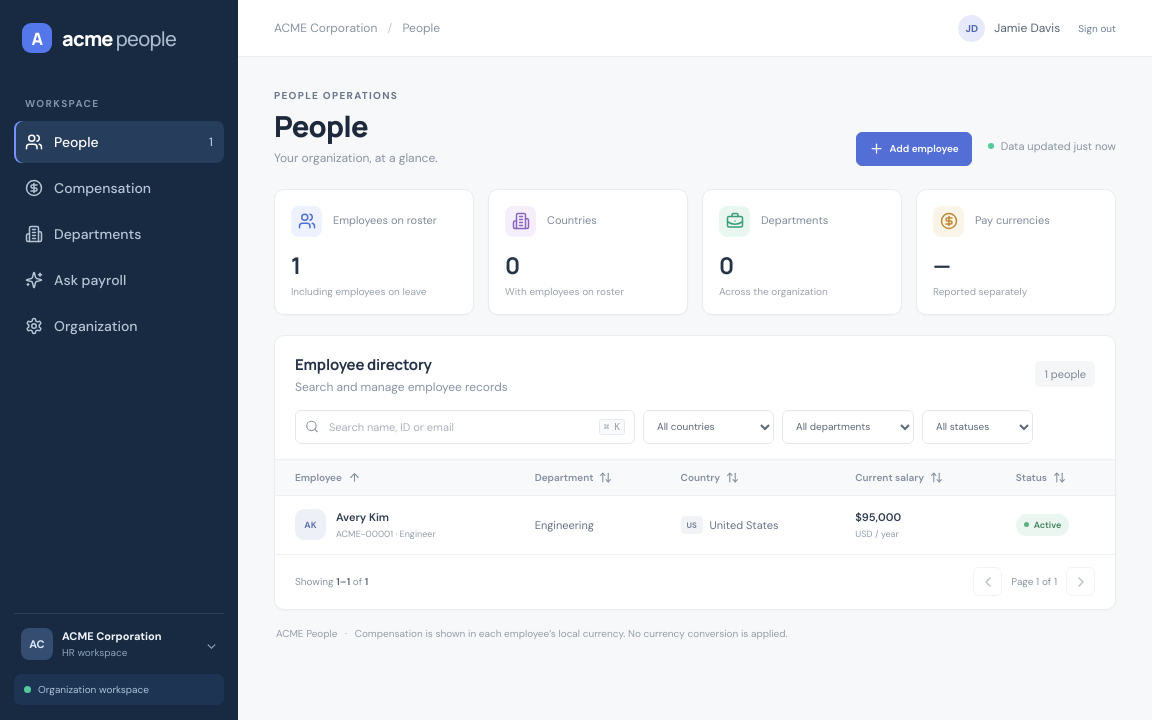
Test case: salary management workspace › edits employee country, status, department, and job title from the profile
Click the text "Avery Kim" at (362, 517), box [336,510,389,524]
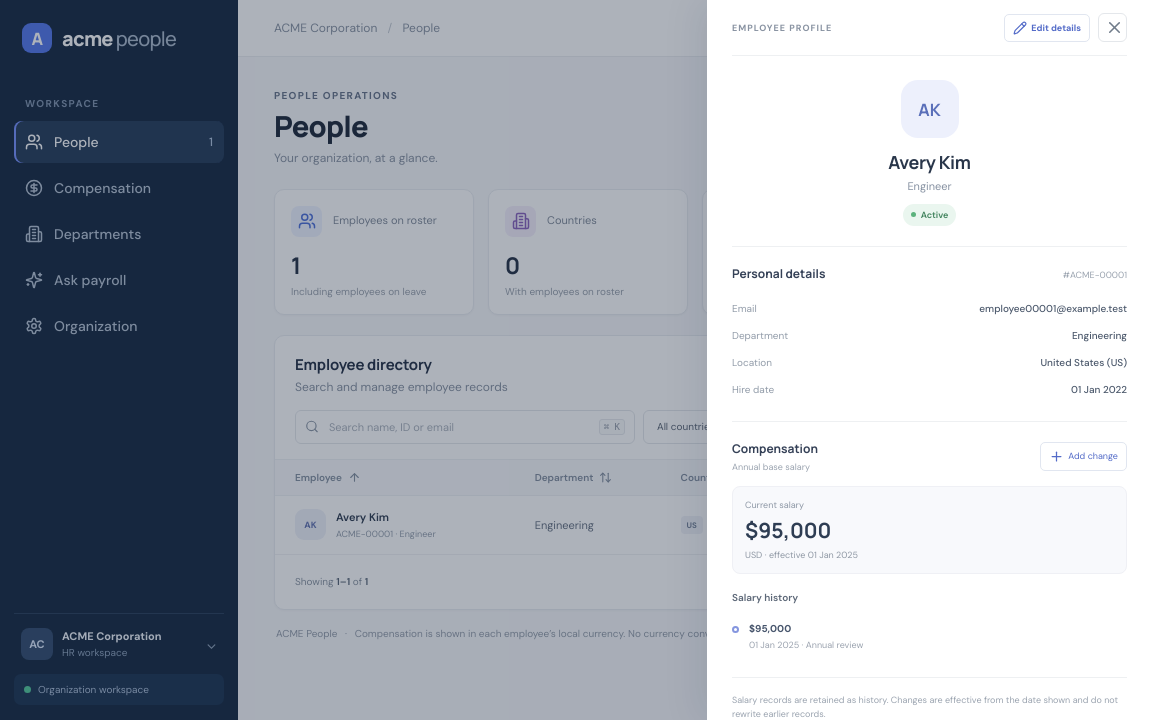
Now the dialog named "Avery Kim profile" is shown, box [707,0,1151,719]
Click the button "Edit details" at (1047, 28), box [1004,14,1090,42]
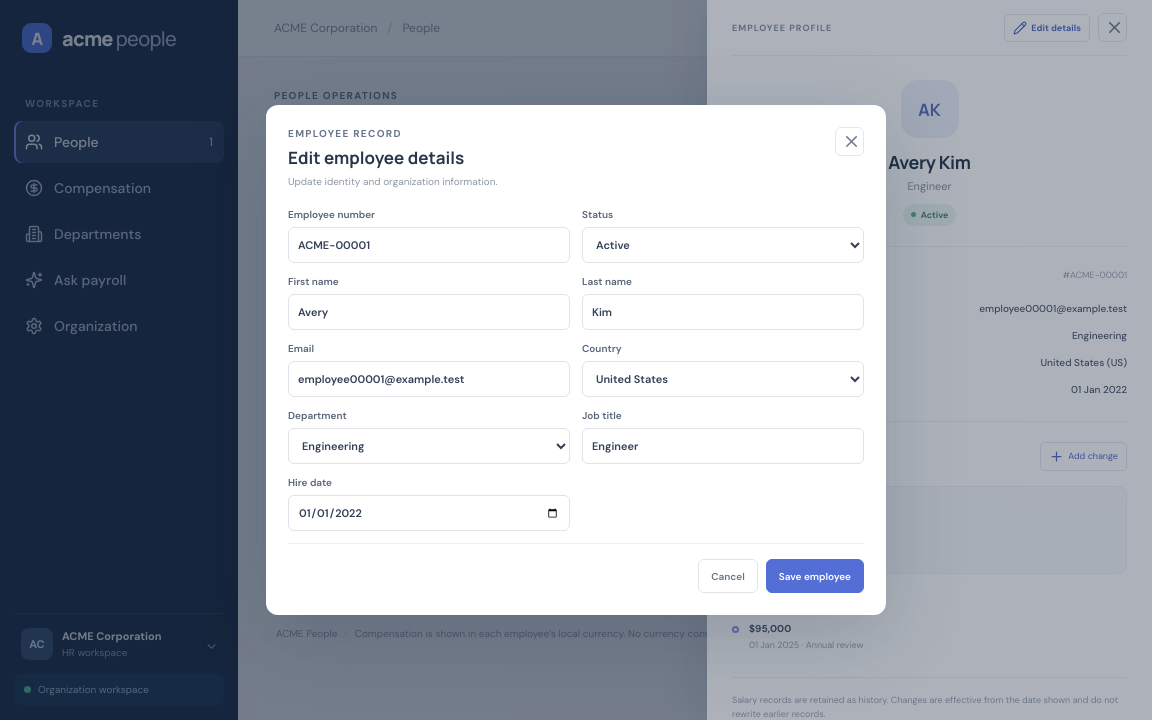
Now the dialog "Edit employee details" is shown, box [266,105,886,615]
Select "United Kingdom" in the dropdown labelled "Country" at (723, 379), box [582,361,864,397]
Select "On leave" in the dropdown named "Employee status" at (723, 245), box [582,227,864,263]
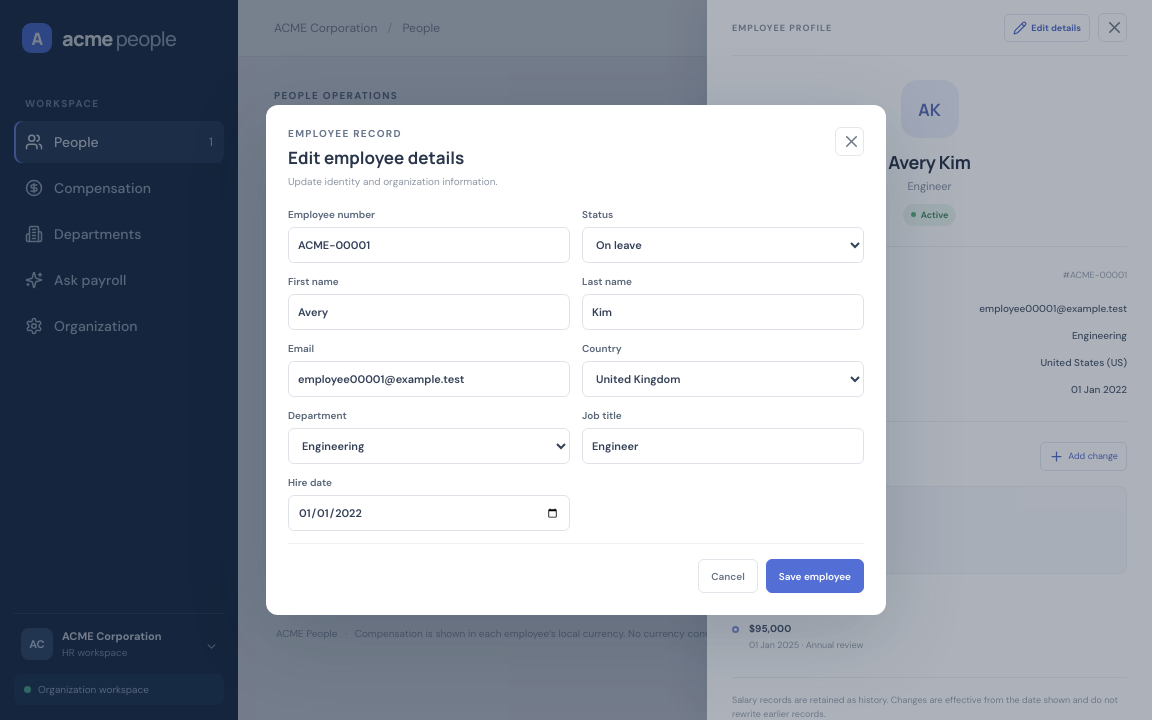
Select "Legal" in the dropdown labelled "Department" at (429, 446), box [288,428,570,464]
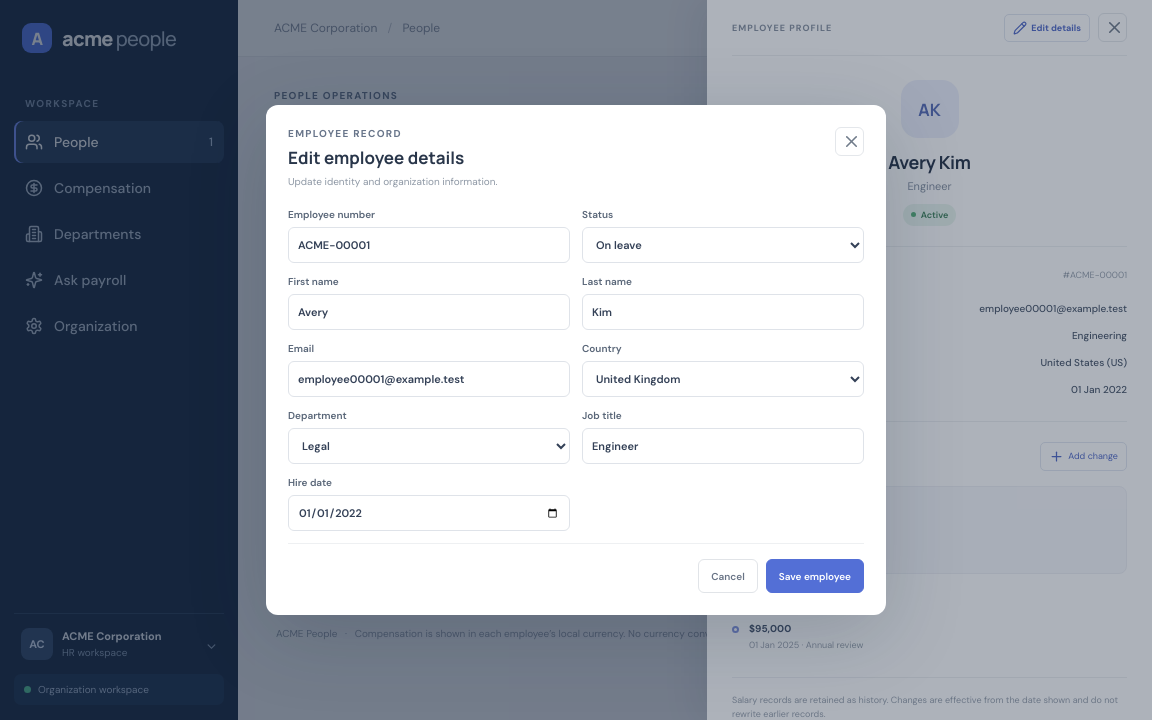
Replace the text in the field labelled "Job title" with "Senior Counsel" at (723, 446), box [582,428,864,464]
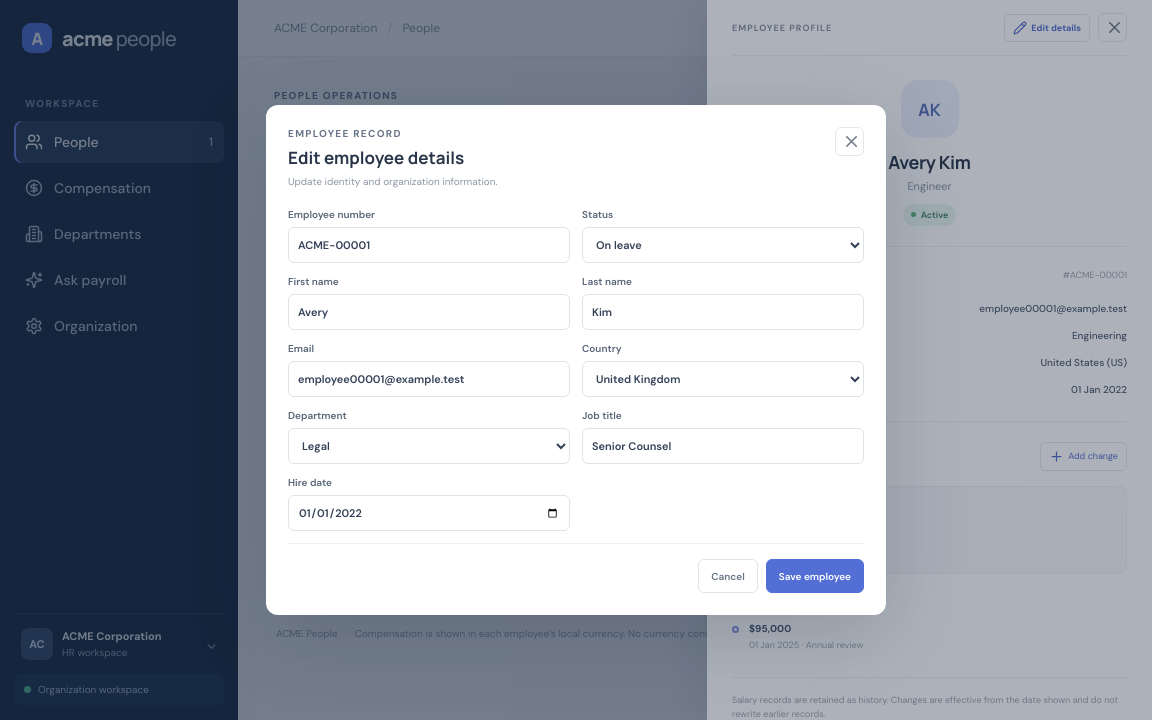
Click the button "Save employee" at (815, 576), box [766,559,864,593]
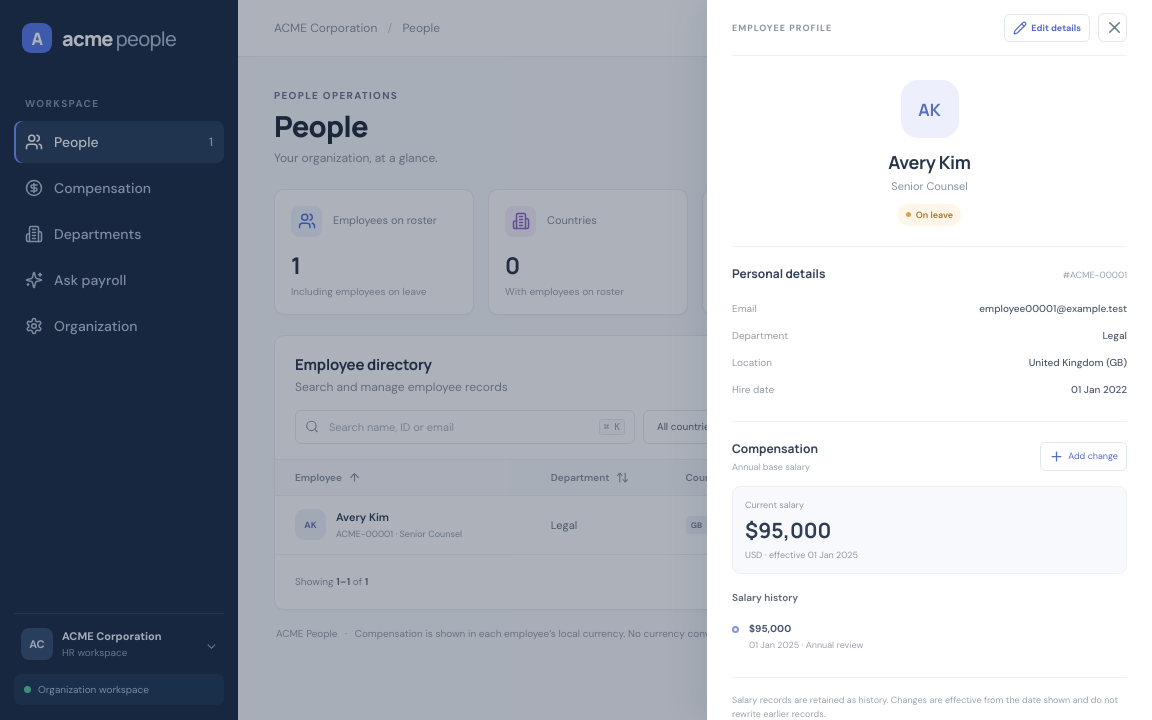
Now the heading "Edit employee details" is gone
Now the text "On leave" is shown, box [898,204,961,226]
Now the text "United Kingdom (GB)" is shown, box [1029,356,1127,368]
